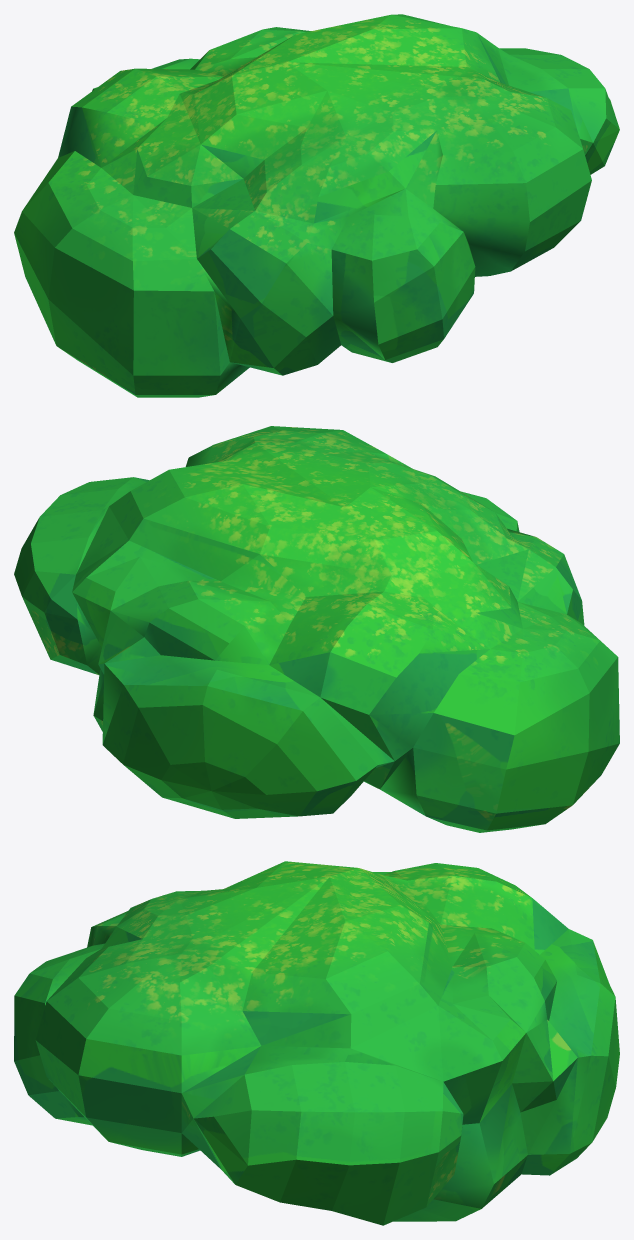
Rendered from treeAleaves1.fbx.
The picture shows the model from 3 angles, top to bottom: view 1: azimuth 30°, elevation 25°; view 2: azimuth 150°, elevation 25°; view 3: azimuth 270°, elevation 25°; orthographic projection. The views are drawn at different scales.
Visible parts, largest first — view 1: pSphere35; view 2: pSphere35; view 3: pSphere35.
Boxes of the visible parts, x1=… form: pSphere35: x1=14, y1=14, x2=619, y2=397; pSphere35: x1=14, y1=426, x2=619, y2=832; pSphere35: x1=14, y1=861, x2=619, y2=1225.
Bounding box in the file's own units: 59.56 × 28.88 × 51.05.
Materials: 1 (1 with a texture image).
